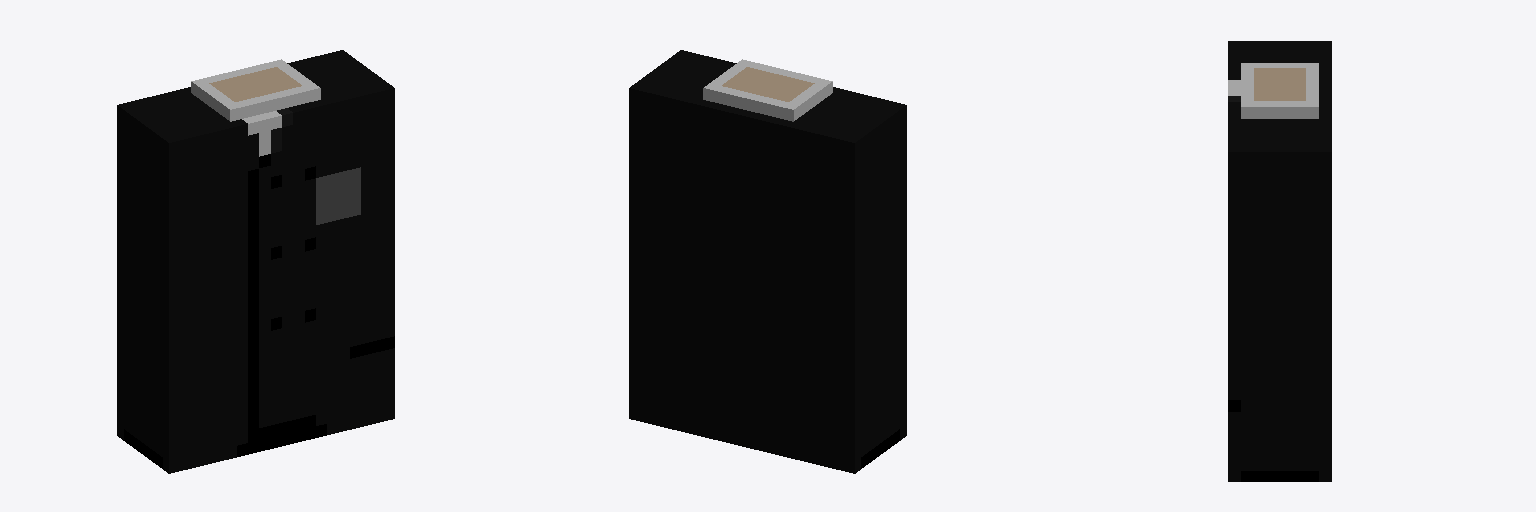
The picture shows the model from 3 angles: view 1: azimuth 30°, elevation 25°; view 2: azimuth 150°, elevation 25°; view 3: azimuth 270°, elevation 25°; orthographic projection.
Visible parts, largest first — view 1: torso; view 2: torso; view 3: torso.
Part boxes in pixels (left/top/right/bottom): torso: left=117, top=50, right=394, bottom=473; torso: left=629, top=50, right=906, bottom=473; torso: left=1228, top=41, right=1331, bottom=481.
Bounding box in the file's own units: 2 × 2.9 × 0.8.
Materials: 1 (1 with a texture image).